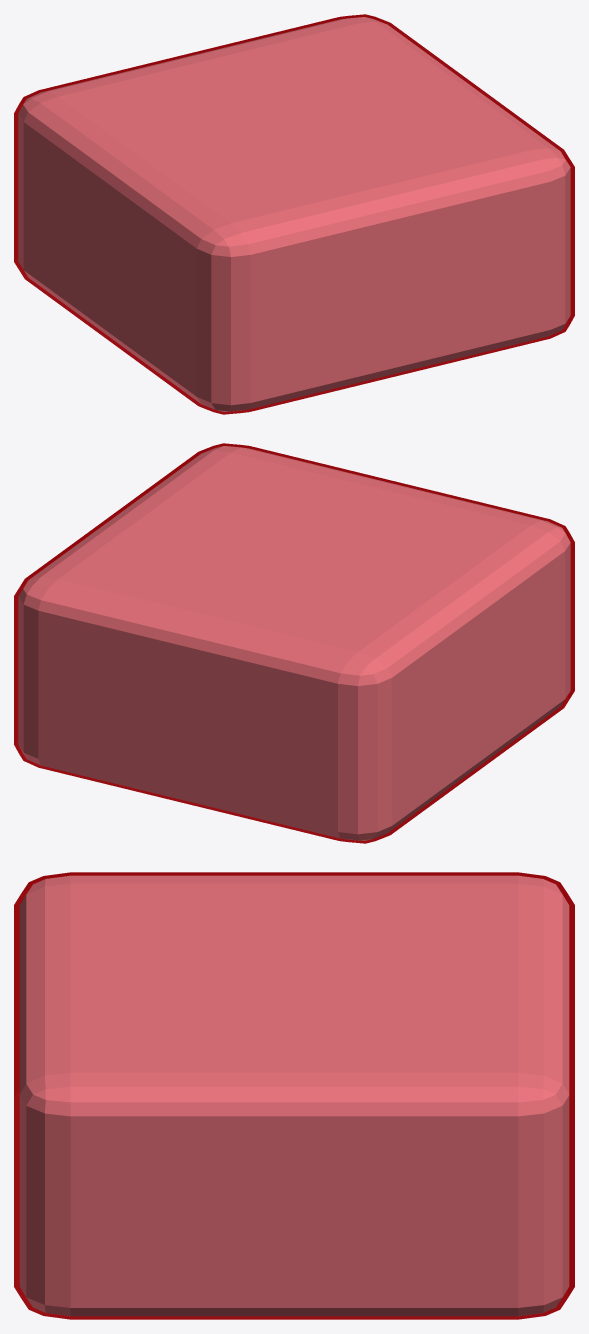
File: quadrado morango.glb
3 views of the same model, one above another, from view 1: azimuth 30°, elevation 25°; view 2: azimuth 150°, elevation 25°; view 3: azimuth 270°, elevation 25° (orthographic). The views are drawn at different scales.
Parts seen in each view (by area): view 1: Cube.012; view 2: Cube.012; view 3: Cube.012.
Part boxes in pixels (x1=…): Cube.012: x1=14, y1=14, x2=574, y2=414; Cube.012: x1=14, y1=443, x2=574, y2=843; Cube.012: x1=14, y1=872, x2=574, y2=1319.
Size of the model in its own units: 21.22 by 10.02 by 21.22.
